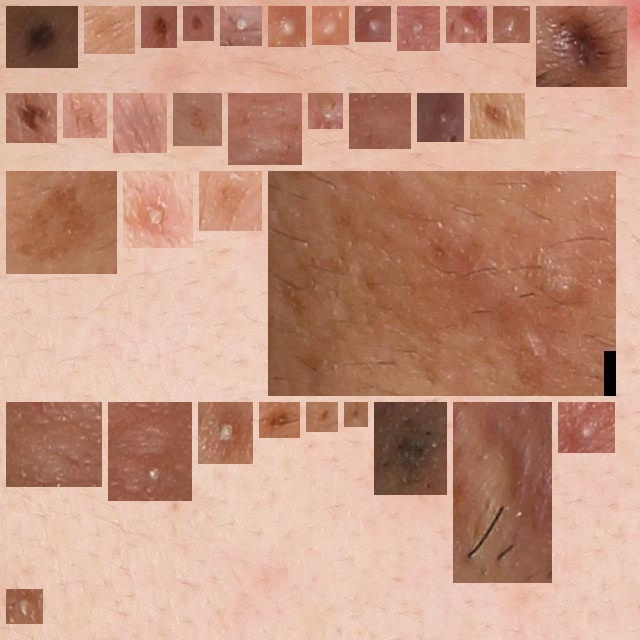hypertrophic_scar: (461, 410, 544, 575), (116, 410, 184, 493), (14, 410, 94, 479), (236, 101, 294, 157), (357, 101, 403, 141)
melasma: (276, 179, 608, 388), (14, 179, 109, 266), (207, 179, 254, 223), (121, 101, 159, 145), (181, 101, 214, 138), (92, 14, 127, 46)
nevus: (544, 14, 619, 79), (382, 410, 439, 487), (14, 14, 70, 60), (14, 101, 49, 135), (478, 101, 517, 131), (71, 101, 99, 130), (149, 14, 169, 40), (267, 410, 292, 430), (191, 14, 206, 33), (314, 410, 330, 424), (352, 410, 360, 419)
pustule: (131, 179, 185, 240), (206, 410, 245, 456), (566, 410, 607, 445), (425, 101, 456, 134), (405, 14, 432, 43), (228, 14, 254, 38), (276, 14, 298, 39), (454, 14, 479, 35), (320, 14, 341, 37), (501, 14, 522, 35), (363, 14, 383, 34), (14, 597, 35, 616), (316, 101, 335, 121)
